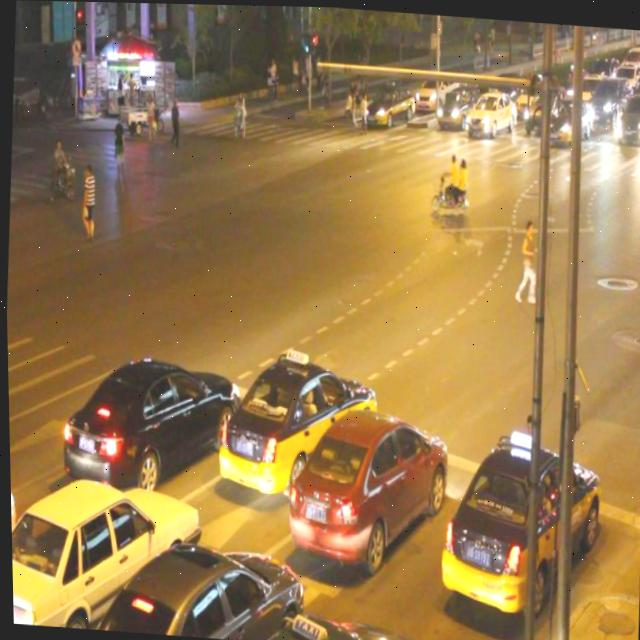car: (429, 429, 605, 620), (8, 469, 200, 636), (279, 399, 452, 564), (66, 528, 307, 640), (56, 346, 240, 492), (212, 349, 378, 499), (230, 602, 430, 640), (8, 470, 19, 587)
